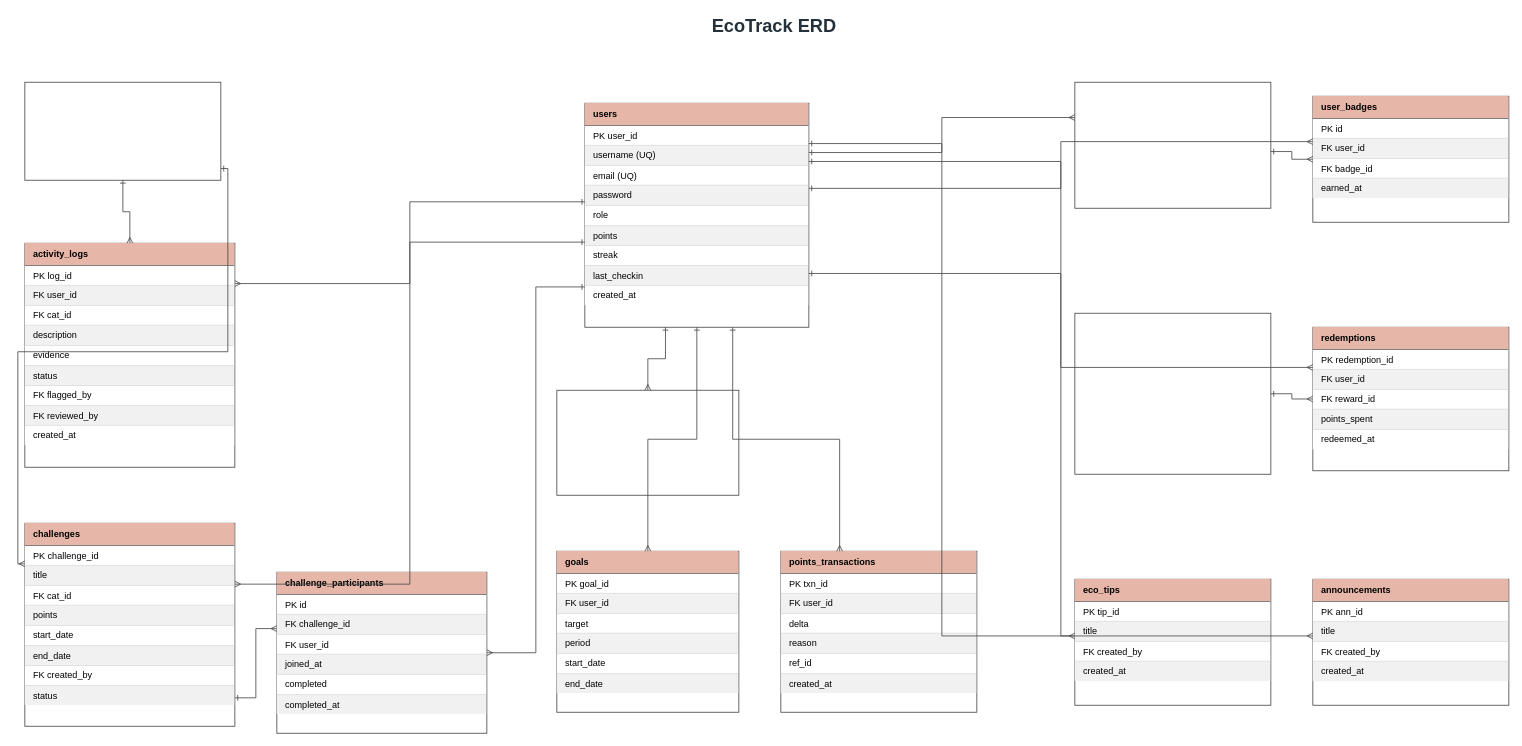
The diagram is 1522 pixels wide and 746 high, and some of its shapes have lost their labels. The centre of each missing label's shape, as x and y in pixels:
"badges PK badge_id name criteria FK created_by" belongs at (x=1172, y=144).
"categories PK cat_id name icon" belongs at (x=122, y=130).
"daily_checkins PK checkin_id FK user_id checkin_date" belongs at (x=647, y=442).
"rewards PK reward_id name category point_cost stock active" belongs at (x=1172, y=393).
